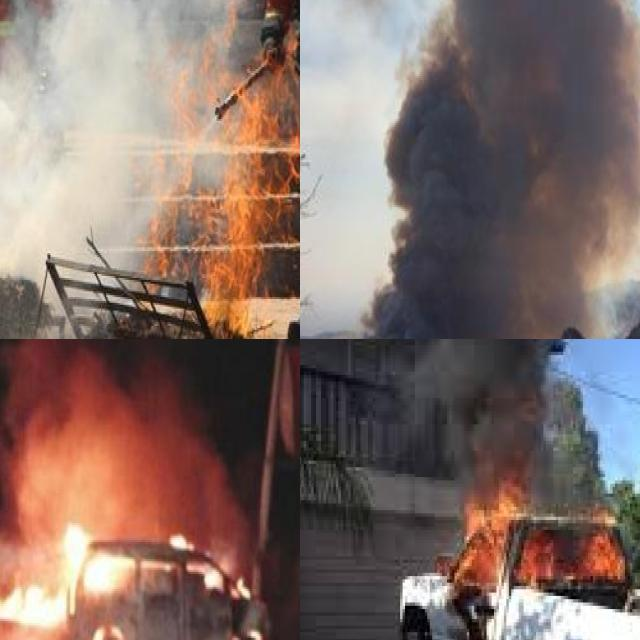fire: (151, 0, 300, 339), (0, 516, 261, 640), (432, 467, 638, 616)
smoke: (300, 0, 640, 339), (0, 0, 252, 339), (0, 339, 247, 548), (407, 339, 580, 487)
